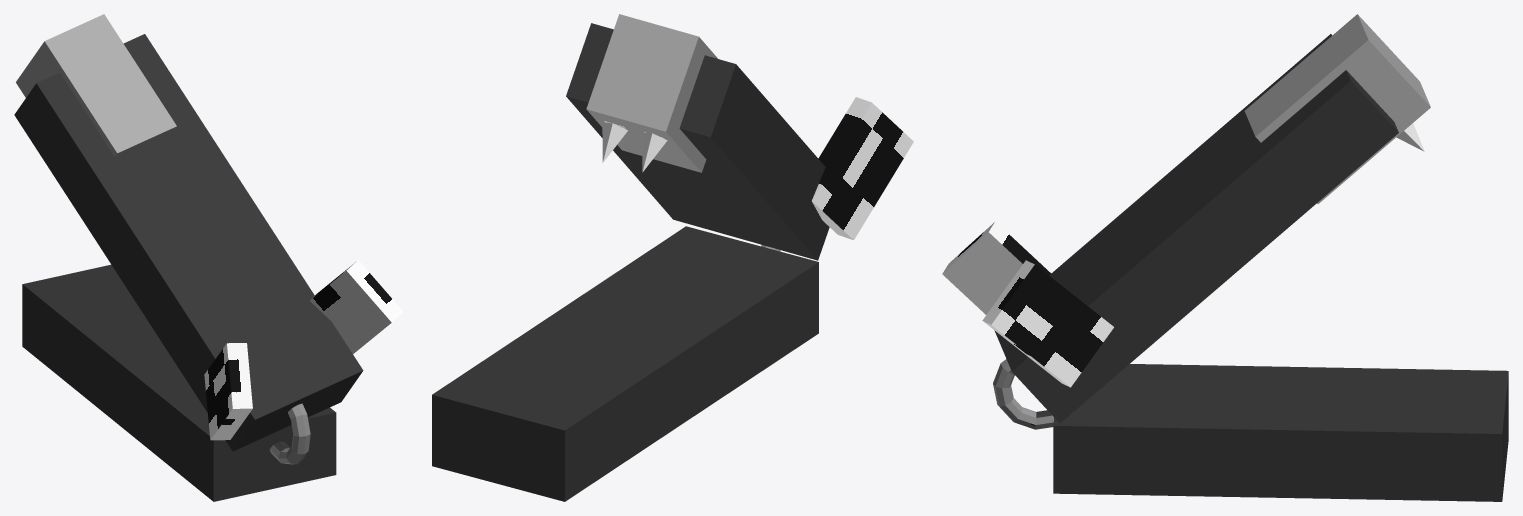
Rendered from snapback.gltf.
3 renders of one model, left to right at view 1: azimuth 30°, elevation 25°; view 2: azimuth 150°, elevation 25°; view 3: azimuth 270°, elevation 25°, orthographic. The views are drawn at different scales.
Visible parts, largest first — view 1: mesh (×5), torus; view 2: mesh (×4), pyramid (×2); view 3: mesh (×5), torus.
Boxes of the visible parts, x1,y1,x2,y2 form: mesh (×5): (14,14,403,501); torus: (269,403,310,464); mesh (×4): (432,14,913,501); pyramid (×2): (602,123,667,172); mesh (×5): (942,14,1508,501); torus: (993,359,1053,429).
Size of the model in its own units: 0.2204 by 0.3755 by 0.4728.
8 materials, 8 textured.
